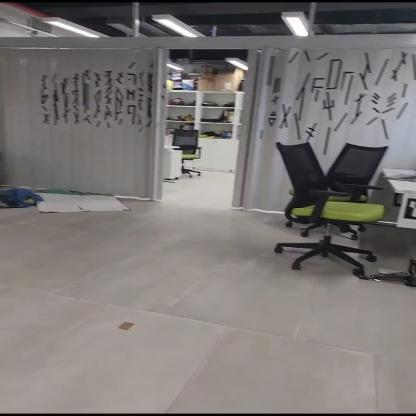open: (148, 49, 256, 204)
